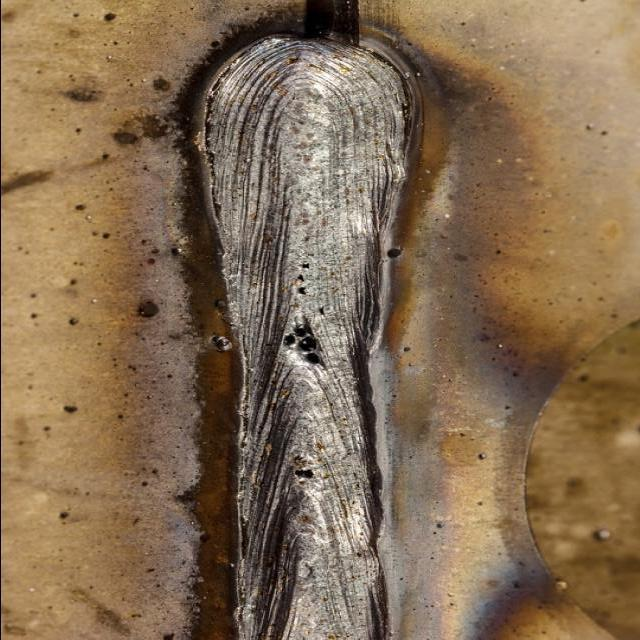defect: (276, 316, 326, 369), (294, 258, 314, 299), (287, 465, 320, 482), (380, 247, 404, 262)
